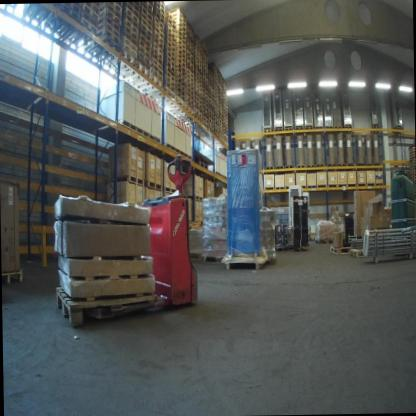pallet: (54, 284, 158, 328), (41, 3, 81, 40), (65, 14, 101, 55), (109, 55, 149, 89), (99, 47, 136, 78), (82, 32, 119, 61), (128, 71, 162, 96), (107, 170, 146, 188), (141, 85, 176, 104), (158, 94, 185, 115), (97, 27, 120, 47), (97, 21, 120, 41), (2, 267, 24, 287), (99, 8, 121, 28), (97, 15, 120, 33), (80, 3, 100, 23), (99, 3, 121, 21), (80, 9, 99, 29), (201, 253, 227, 266), (122, 7, 139, 26), (122, 1, 139, 20), (329, 242, 352, 256), (121, 13, 138, 31), (121, 36, 137, 55), (121, 23, 137, 42), (122, 18, 138, 37), (61, 2, 81, 17), (99, 2, 122, 14), (121, 43, 137, 60), (122, 30, 137, 48), (138, 20, 152, 38), (139, 15, 153, 33), (142, 178, 161, 191), (82, 3, 100, 16), (137, 49, 150, 67), (138, 26, 151, 44), (137, 38, 151, 54), (149, 66, 163, 82), (139, 10, 152, 27), (140, 5, 153, 22), (149, 62, 163, 77), (164, 29, 175, 48), (137, 44, 150, 60), (140, 1, 153, 17), (152, 29, 164, 46), (152, 24, 164, 41), (138, 33, 151, 48), (150, 56, 163, 71), (150, 51, 163, 66), (151, 35, 164, 50), (152, 19, 164, 35), (153, 5, 165, 21), (173, 15, 186, 29), (151, 46, 163, 61), (152, 14, 164, 29), (153, 9, 165, 24), (164, 25, 176, 40), (151, 42, 163, 56), (164, 21, 176, 35), (154, 1, 165, 16), (164, 49, 175, 64), (164, 44, 175, 59), (164, 39, 175, 54), (186, 192, 204, 201), (350, 247, 364, 258), (164, 69, 175, 83), (164, 60, 175, 74), (164, 55, 175, 69), (175, 33, 186, 47), (165, 16, 175, 31), (163, 183, 175, 195), (185, 86, 194, 102), (293, 243, 309, 252), (164, 80, 175, 93), (164, 75, 175, 88), (164, 65, 175, 78), (175, 60, 186, 73), (175, 56, 186, 69), (175, 47, 186, 60), (175, 42, 186, 55), (175, 38, 186, 51), (175, 19, 186, 32), (165, 11, 175, 25), (128, 1, 139, 13), (175, 52, 186, 64), (175, 75, 185, 88), (176, 29, 186, 42), (175, 90, 185, 102), (175, 85, 185, 97), (175, 81, 185, 93), (175, 70, 185, 82), (175, 65, 185, 77), (176, 25, 186, 37), (194, 162, 208, 170), (194, 61, 202, 75), (185, 100, 195, 111), (185, 67, 194, 79), (186, 58, 194, 71), (186, 49, 194, 62), (186, 44, 194, 57), (186, 40, 194, 53), (185, 95, 194, 106), (185, 73, 194, 84), (186, 54, 194, 66), (185, 81, 194, 91), (185, 77, 194, 87), (186, 63, 194, 74), (194, 94, 202, 105), (194, 78, 202, 89), (194, 74, 202, 85), (194, 70, 202, 81), (194, 58, 202, 69), (193, 158, 207, 164), (194, 83, 202, 93), (194, 91, 202, 101), (208, 93, 214, 106), (208, 78, 214, 91), (195, 107, 202, 118), (157, 1, 165, 10), (194, 87, 202, 96), (195, 104, 202, 114), (195, 100, 202, 110), (208, 84, 214, 95), (202, 103, 209, 112), (274, 164, 284, 170), (202, 67, 208, 77), (262, 128, 273, 133), (274, 185, 285, 190), (214, 120, 219, 131), (314, 124, 323, 130), (304, 124, 313, 130), (294, 125, 303, 131), (283, 126, 292, 132), (274, 127, 283, 133), (202, 119, 208, 128), (202, 115, 208, 124), (202, 111, 208, 120), (202, 107, 208, 116), (202, 99, 208, 108), (202, 95, 208, 104), (202, 87, 208, 96), (202, 83, 208, 92), (202, 79, 208, 88), (202, 75, 208, 84), (202, 71, 208, 80), (202, 63, 208, 72), (208, 101, 214, 110), (208, 74, 214, 83), (264, 165, 274, 170), (296, 163, 306, 168), (305, 163, 315, 168), (326, 162, 336, 167), (306, 184, 316, 189), (214, 111, 219, 121), (346, 161, 354, 167), (202, 92, 208, 100), (208, 125, 214, 133), (208, 121, 214, 129), (208, 117, 214, 125), (208, 113, 214, 121), (208, 109, 214, 117), (208, 105, 214, 113), (208, 90, 214, 98), (223, 87, 227, 99), (333, 124, 342, 129), (324, 124, 333, 129), (284, 164, 293, 169), (214, 115, 219, 124), (214, 104, 219, 113), (218, 96, 223, 105), (213, 76, 218, 85), (213, 69, 218, 78), (218, 79, 223, 88), (218, 76, 223, 85), (218, 73, 223, 82), (344, 124, 352, 129), (372, 124, 380, 129), (315, 163, 325, 167), (336, 163, 346, 167), (357, 161, 365, 166), (375, 181, 383, 186), (214, 127, 219, 135), (214, 108, 219, 116), (214, 101, 219, 109), (219, 131, 224, 139), (218, 104, 223, 112), (223, 119, 228, 127), (223, 113, 228, 121), (213, 73, 218, 81), (218, 93, 223, 101), (218, 90, 223, 98), (218, 86, 223, 94), (218, 83, 223, 91), (214, 83, 218, 92), (214, 131, 219, 138), (219, 128, 224, 135), (223, 126, 228, 133), (223, 123, 228, 130), (223, 110, 228, 117), (373, 162, 381, 166), (214, 97, 218, 105), (214, 94, 218, 102), (214, 90, 218, 98), (214, 87, 218, 95), (219, 121, 223, 129), (219, 114, 223, 122), (219, 111, 223, 119), (219, 107, 223, 115), (219, 100, 223, 108), (214, 80, 218, 88), (223, 97, 227, 105), (222, 80, 226, 88), (219, 126, 224, 132), (366, 162, 373, 166), (219, 118, 223, 125), (224, 133, 228, 140), (223, 103, 227, 110), (223, 100, 227, 107), (223, 94, 227, 101), (224, 137, 228, 143), (224, 130, 228, 136), (223, 117, 227, 123), (223, 107, 227, 113), (223, 83, 226, 91)
pallet_truck: (82, 154, 199, 319)
